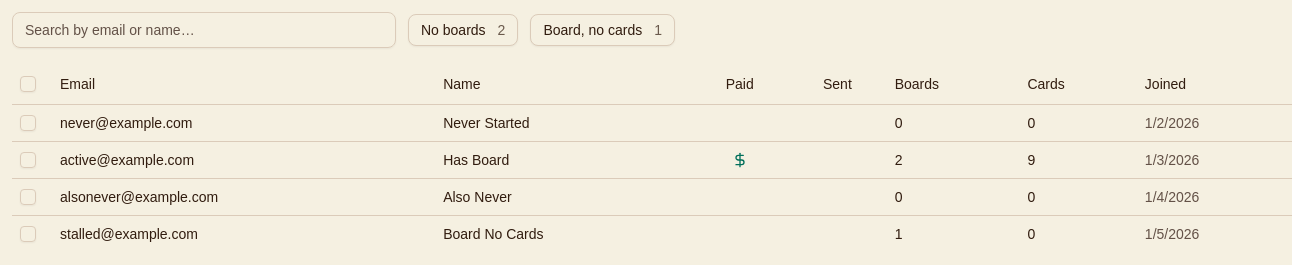
Test: UserSearch — no-boards filter › select-all picks exactly the filtered audience, not the whole user list
The width and height of the screenshot is (1292, 265).
What coordinates should you click on to do the following:
click the button "No boards 2"
I would click on:
 (463, 30)
Its box is left=408, top=14, right=518, bottom=46.
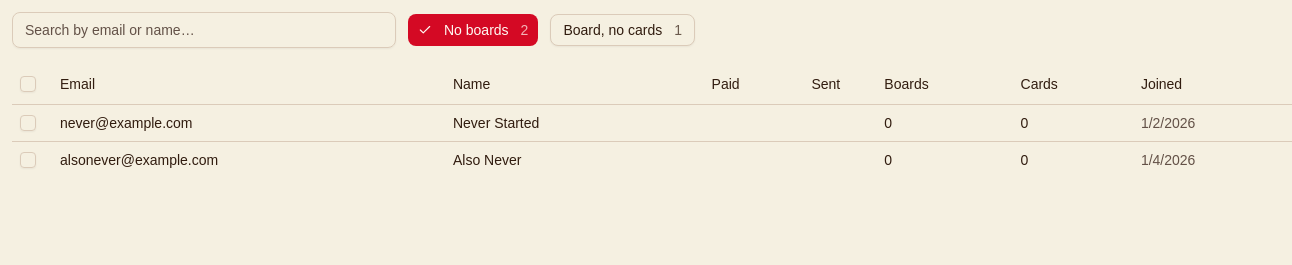
What coordinates should you click on to do the following:
click the checkbox named "select all"
I would click on:
 (28, 84)
Its box is left=20, top=76, right=36, bottom=92.
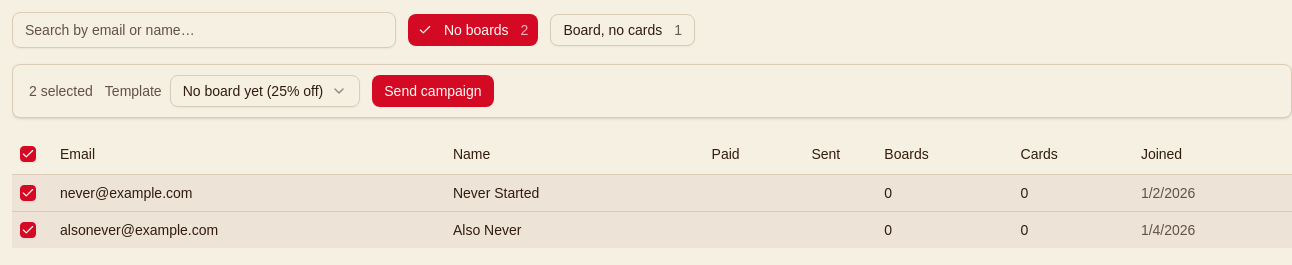
Now the text "2 selected" is shown, box left=29, top=81, right=93, bottom=101
